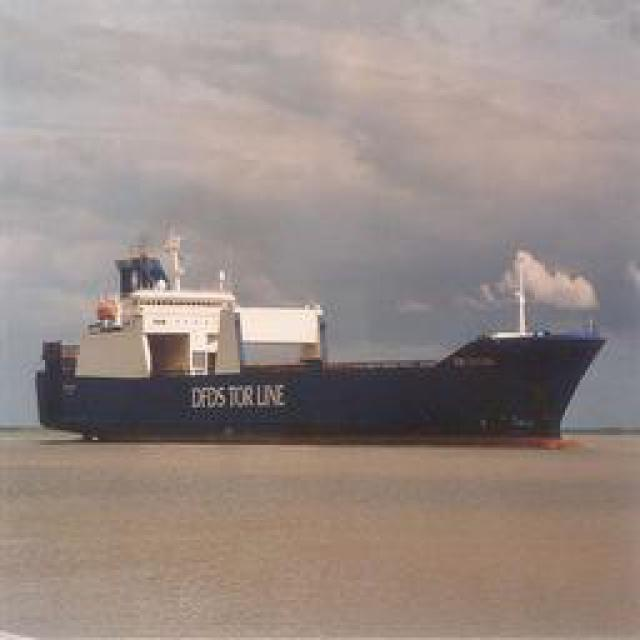Ship: (39, 257, 612, 447)
